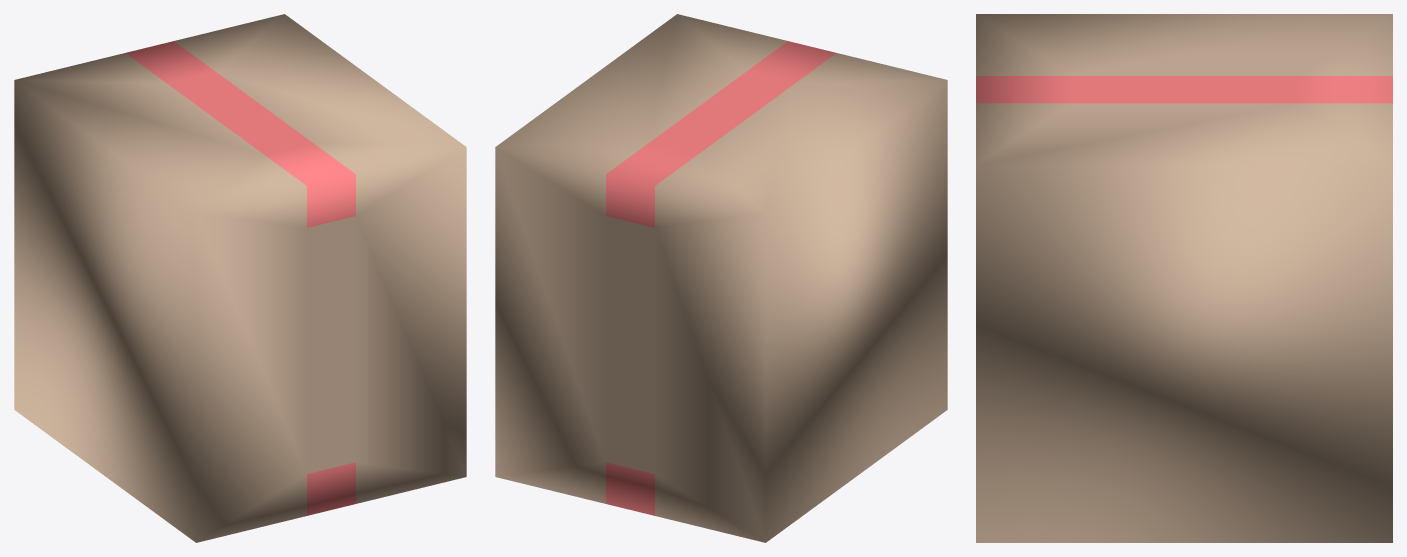
The model's file is tape_RED_03 smooth.fbx.
The picture shows the model from 3 angles, left to right: view 1: azimuth 30°, elevation 25°; view 2: azimuth 150°, elevation 25°; view 3: azimuth 270°, elevation 25°; orthographic projection. The views are drawn at different scales.
Visible parts, largest first — view 1: Cardboard Box 03; view 2: Cardboard Box 03; view 3: Cardboard Box 03.
Boxes of the visible parts, bbox=[...] form: Cardboard Box 03: bbox=[14, 14, 466, 542]; Cardboard Box 03: bbox=[495, 14, 947, 542]; Cardboard Box 03: bbox=[976, 14, 1392, 542].
Size of the model in its own units: 19.48 by 22.7 by 22.7.
